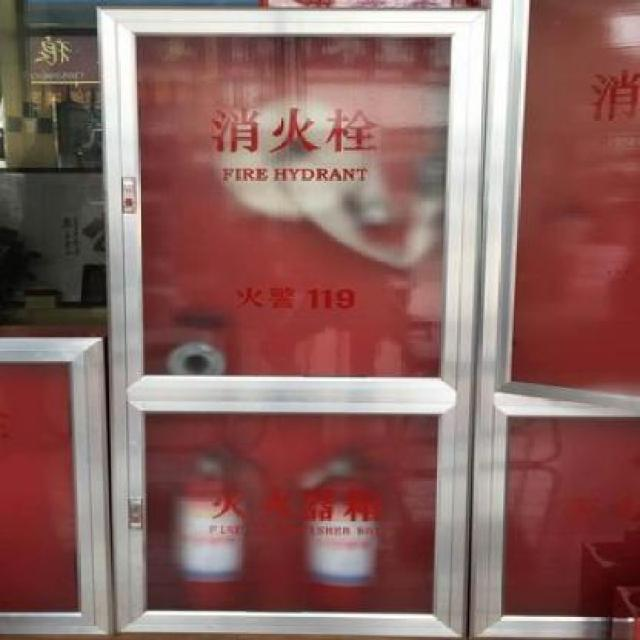firehydrant: (93, 7, 492, 640), (464, 0, 640, 640), (2, 335, 112, 638)
